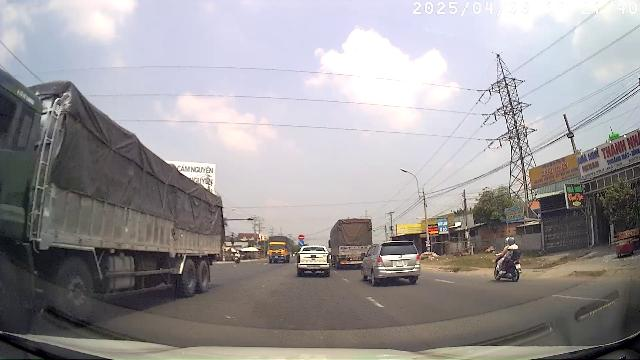102-cam-di-nguoc-chieu: (299, 234, 305, 240)
302a-huong-phai-di-vong-chuong-ngai-vat-1: (298, 241, 304, 246)
